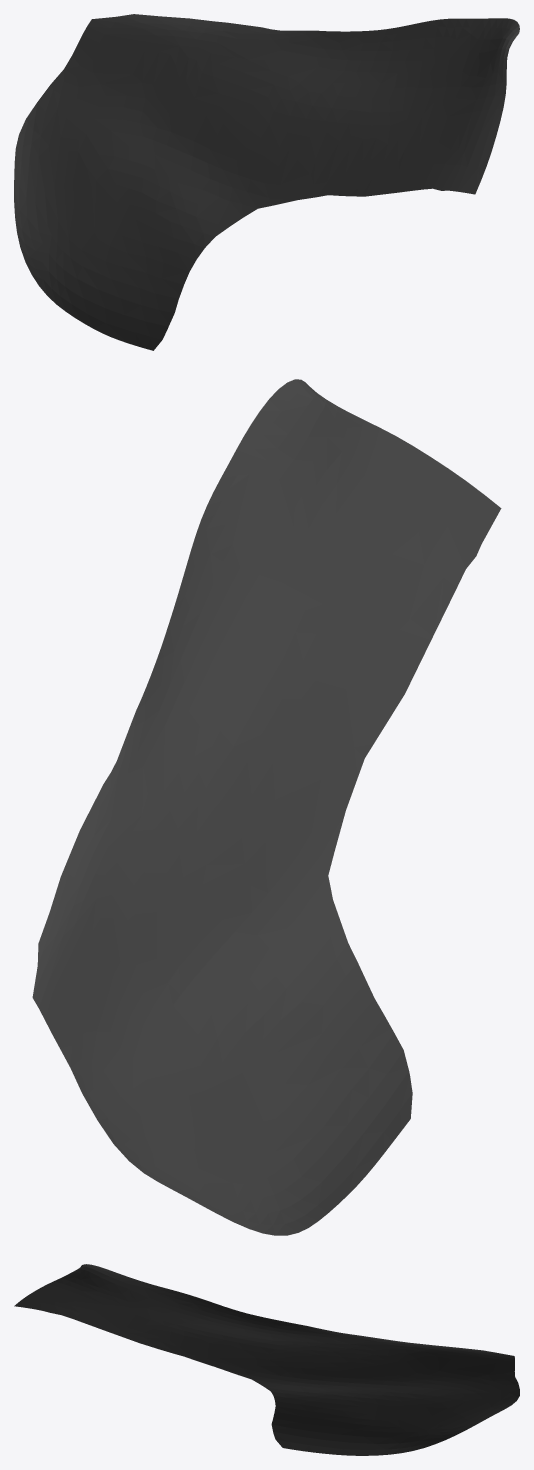
The model's file is Scapula_subscapular_fossa.glb.
3 views of the same model, one above another, from view 1: azimuth 30°, elevation 25°; view 2: azimuth 150°, elevation 25°; view 3: azimuth 270°, elevation 25° (orthographic). The views are drawn at different scales.
Parts seen in each view (by area): view 1: Scapula_subscapular_fossa; view 2: Scapula_subscapular_fossa; view 3: Scapula_subscapular_fossa.
Boxes of the visible parts, x1,y1,x2,y2 form: Scapula_subscapular_fossa: [14, 14, 519, 350]; Scapula_subscapular_fossa: [32, 379, 501, 1235]; Scapula_subscapular_fossa: [14, 1264, 519, 1455].
Size of the model in its own units: 0.6456 by 0.9925 by 1.68.
Materials: 1 (1 with a texture image).
